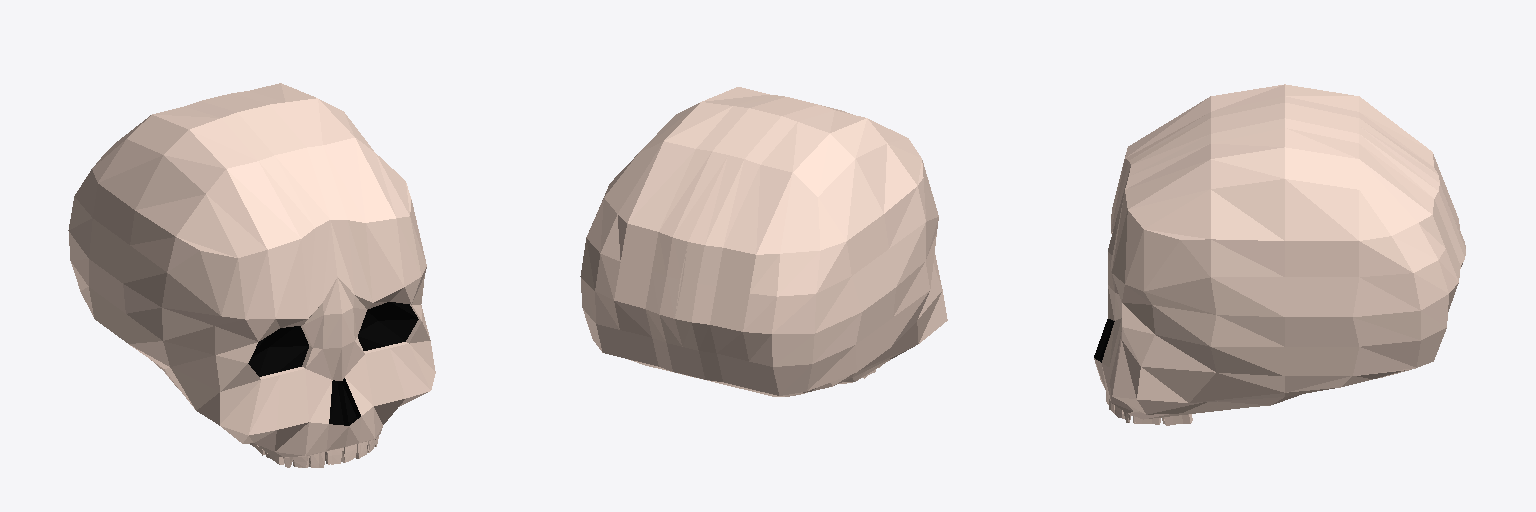
3 renders of one model, left to right at view 1: azimuth 30°, elevation 25°; view 2: azimuth 150°, elevation 25°; view 3: azimuth 270°, elevation 25°, orthographic.
Visible parts, largest first — view 1: Cube_Skull_0; view 2: Cube_Skull_0; view 3: Cube_Skull_0.
Boxes of the visible parts, <box> form: Cube_Skull_0: <box>68,83,435,467</box>; Cube_Skull_0: <box>580,87,947,396</box>; Cube_Skull_0: <box>1094,84,1465,425</box>.
Size of the model in its own units: 3.1 by 3.3 by 3.83.